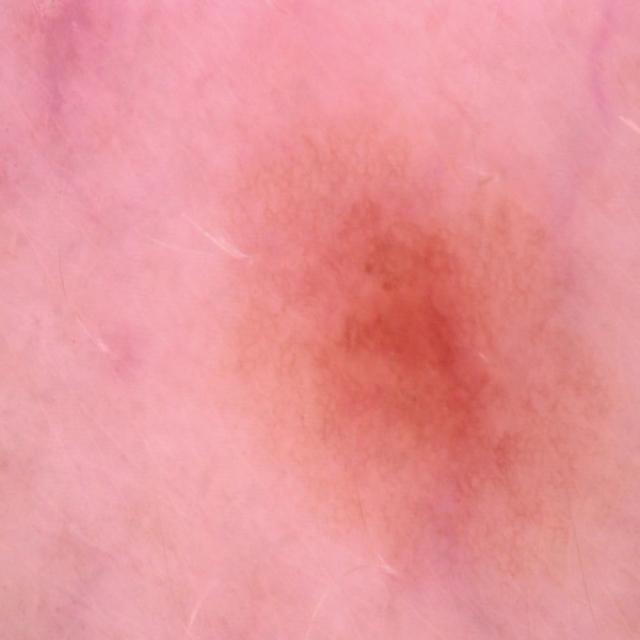NV: (211, 111, 617, 585)
